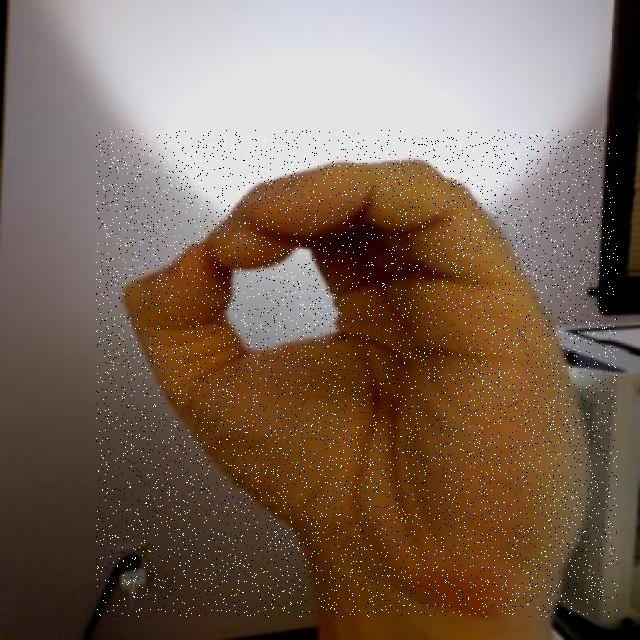O: (96, 130, 618, 617)
